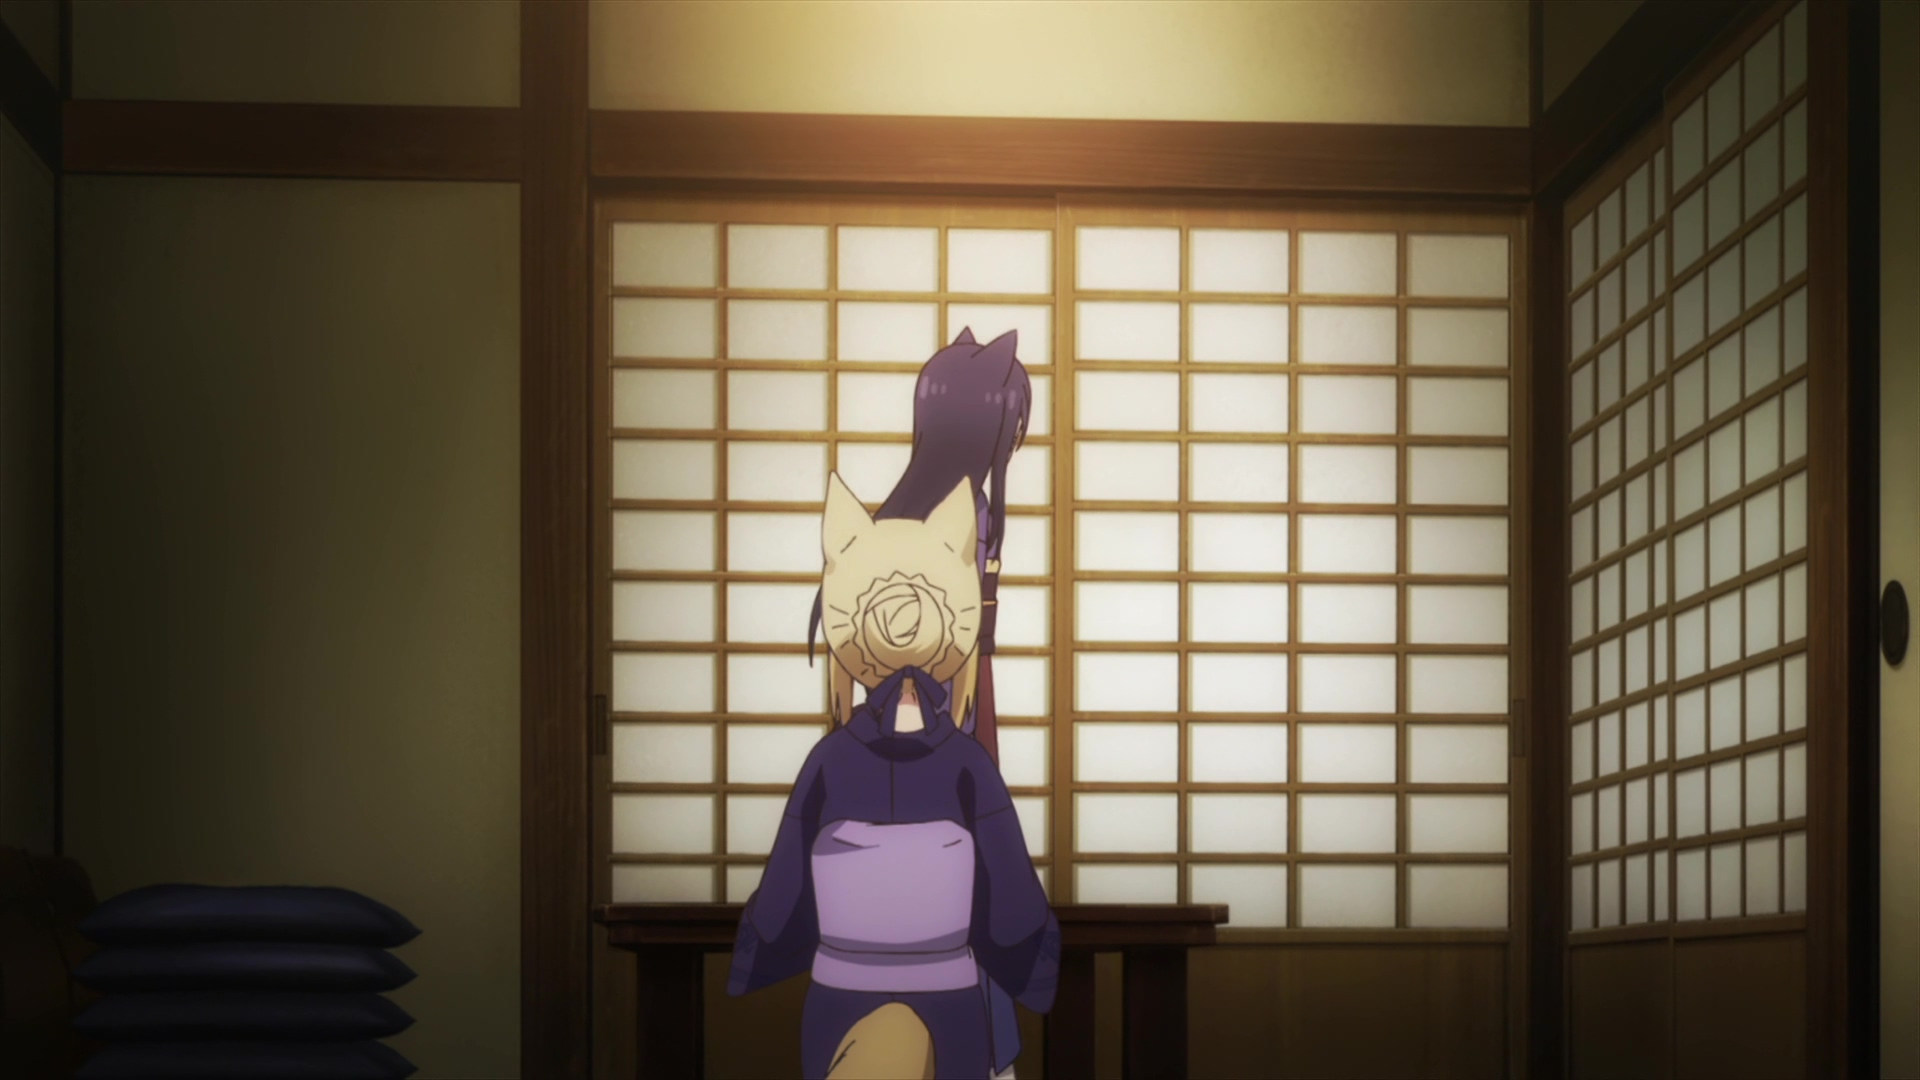桐: (723, 469, 1062, 1080)
皋: (807, 324, 1033, 675)
